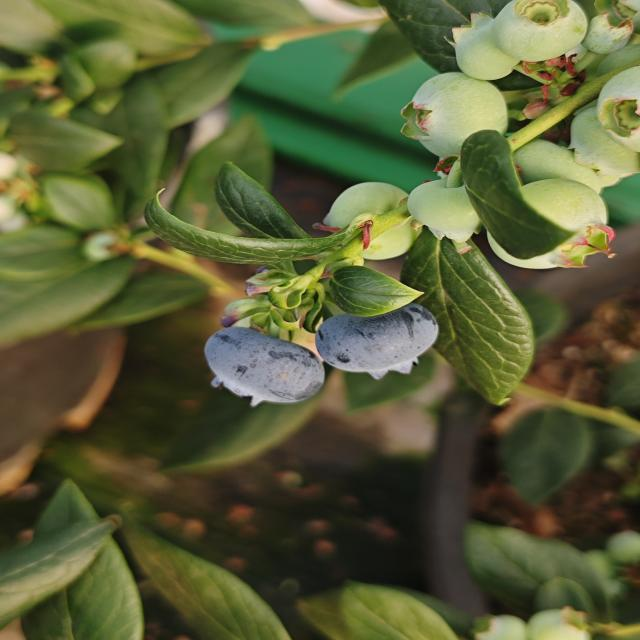ripe: (314, 302, 459, 378), (200, 325, 324, 402)
